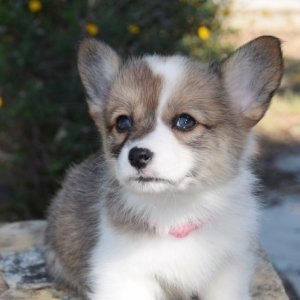corgi: (69, 32, 286, 219)
